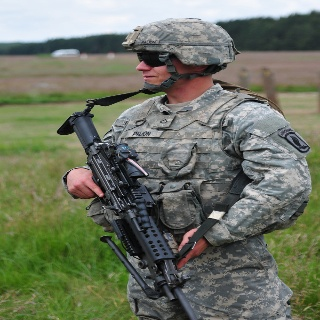rifle: (56, 110, 205, 320)
